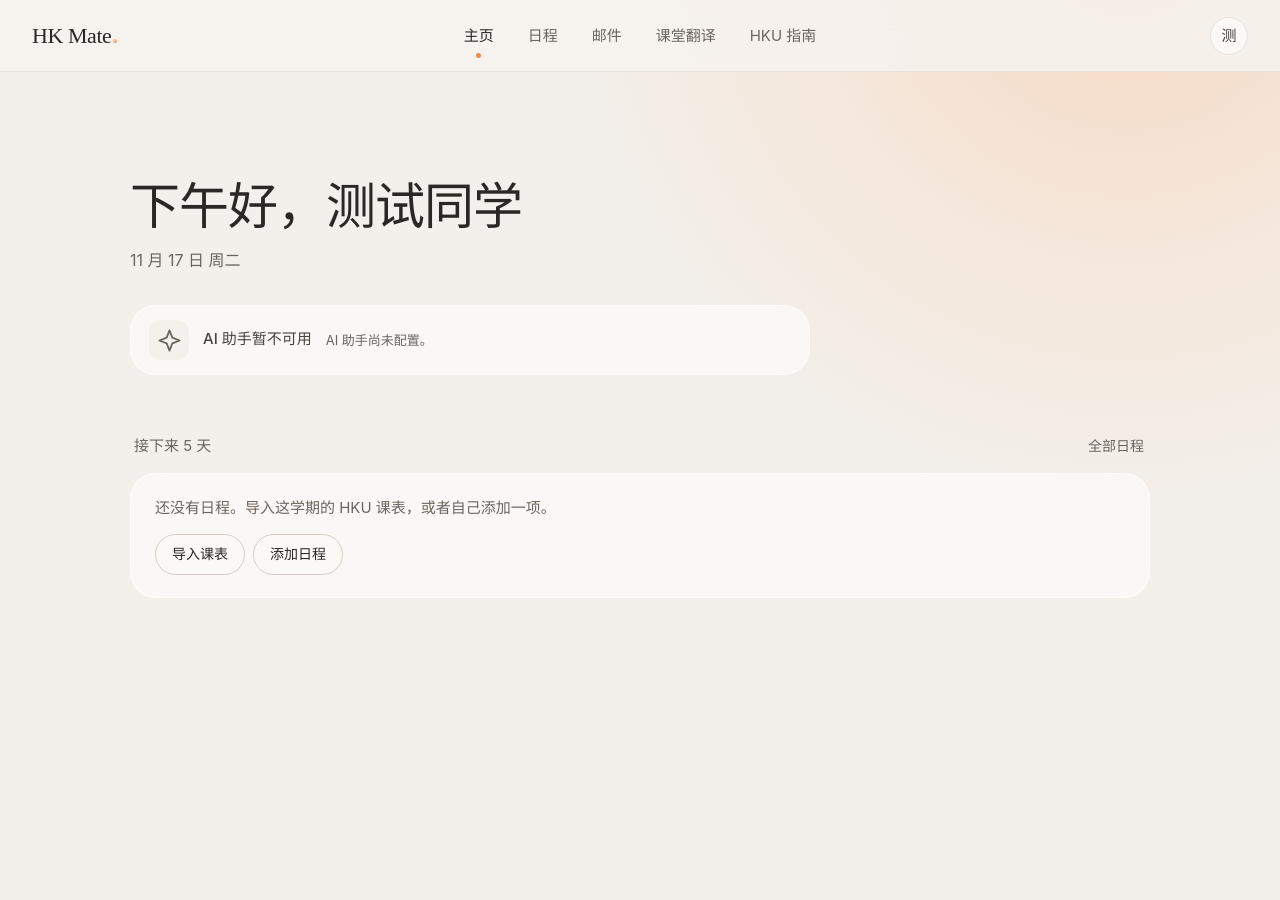
Test case: account pages › lists the lecture pages as tabs
Expected: the heading "下午好，测试同学" is shown, [130, 176, 522, 236]
Click the button "课堂翻译" at (686, 36), box [642, 16, 730, 56]
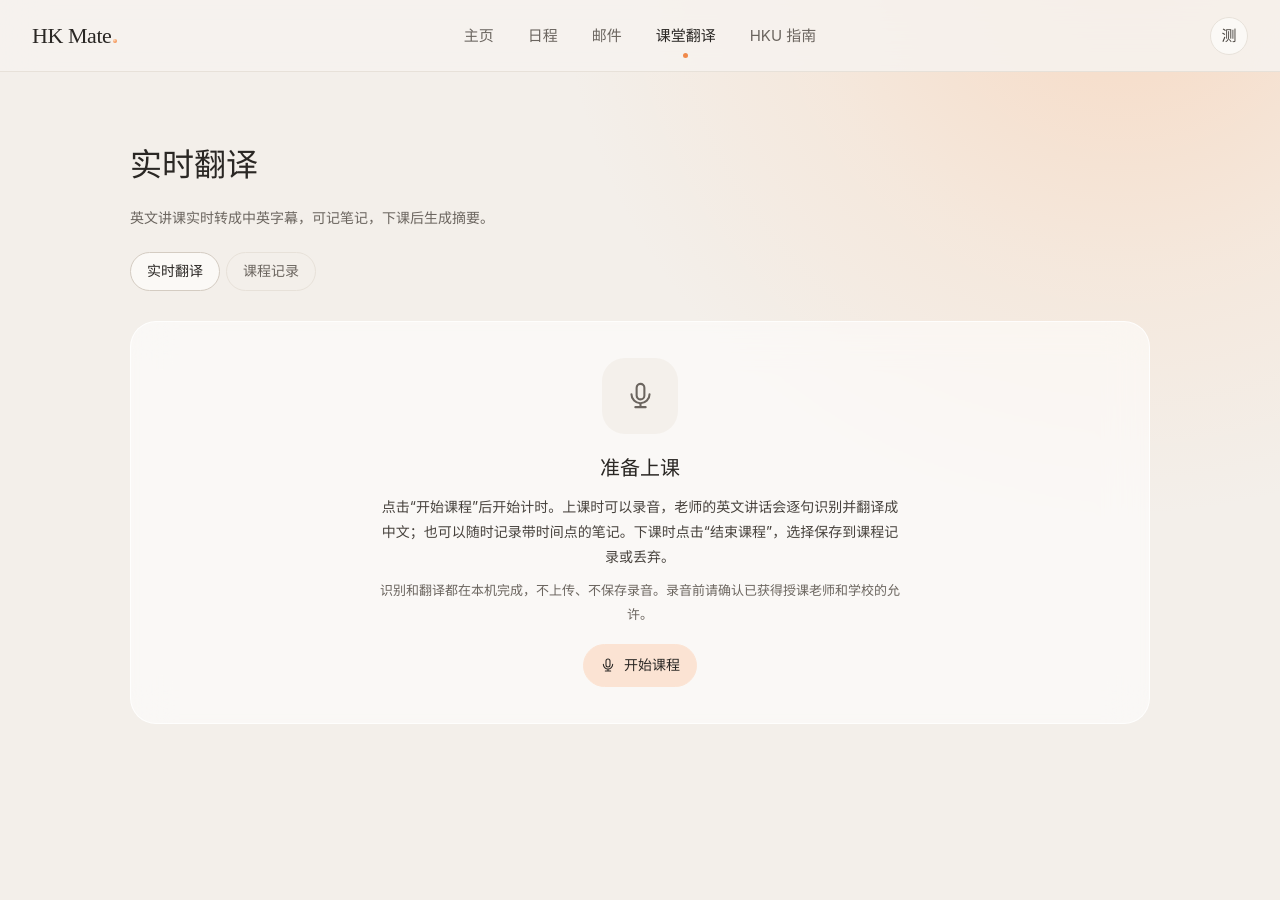
Now the heading "实时翻译" is shown, box [130, 145, 258, 184]
Now the buttons read "实时翻译", "课程记录", in this order
Click the button "课程记录" at (271, 272), box [226, 252, 316, 291]
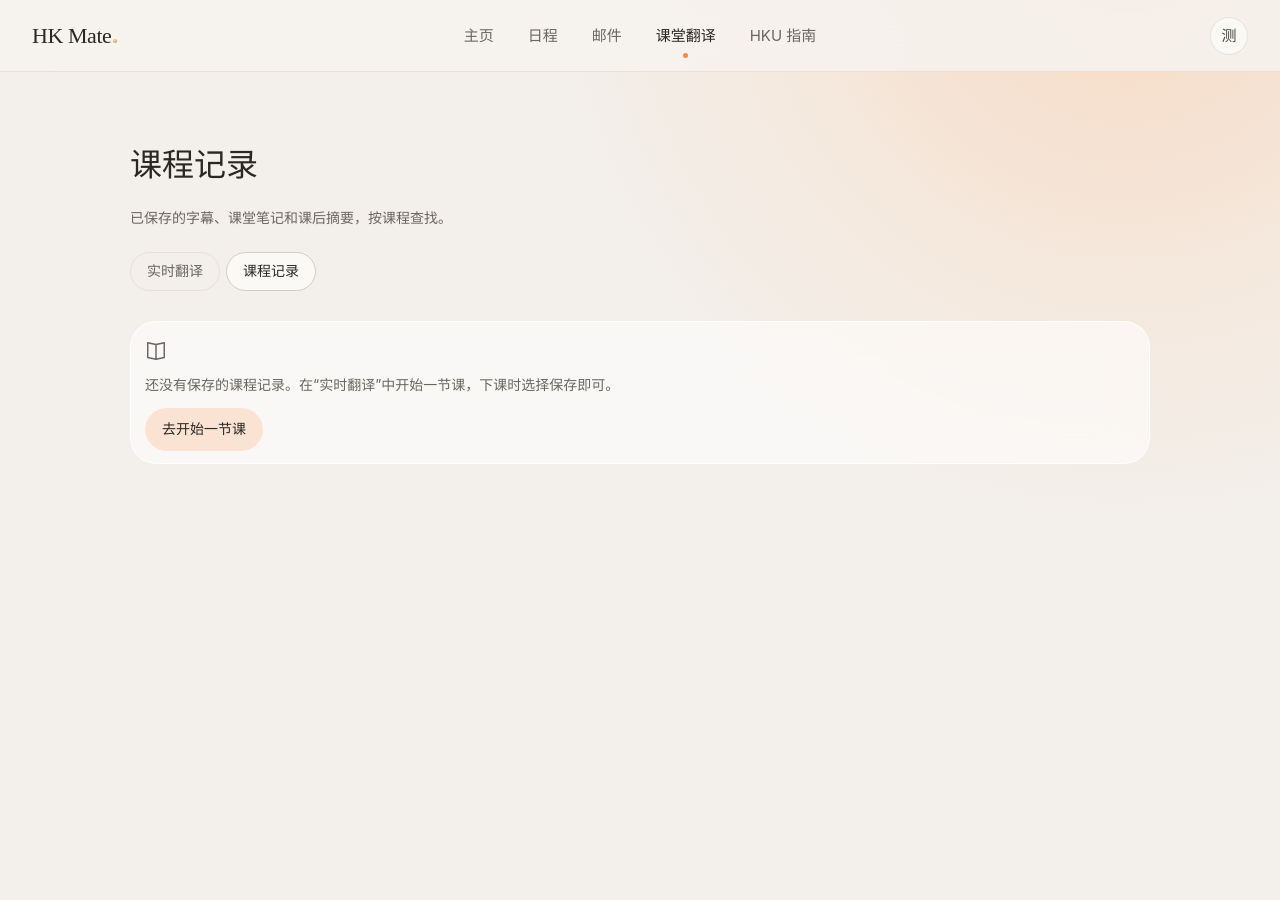
Now the heading "课程记录" is shown, box [130, 145, 258, 184]
Now the text "还没有保存的课程记录。在“实时翻译”中开始一节课，下课时选择保存即可。" is shown, box [145, 374, 619, 396]
Click the button "去开始一节课" at (204, 429), box [145, 408, 263, 451]
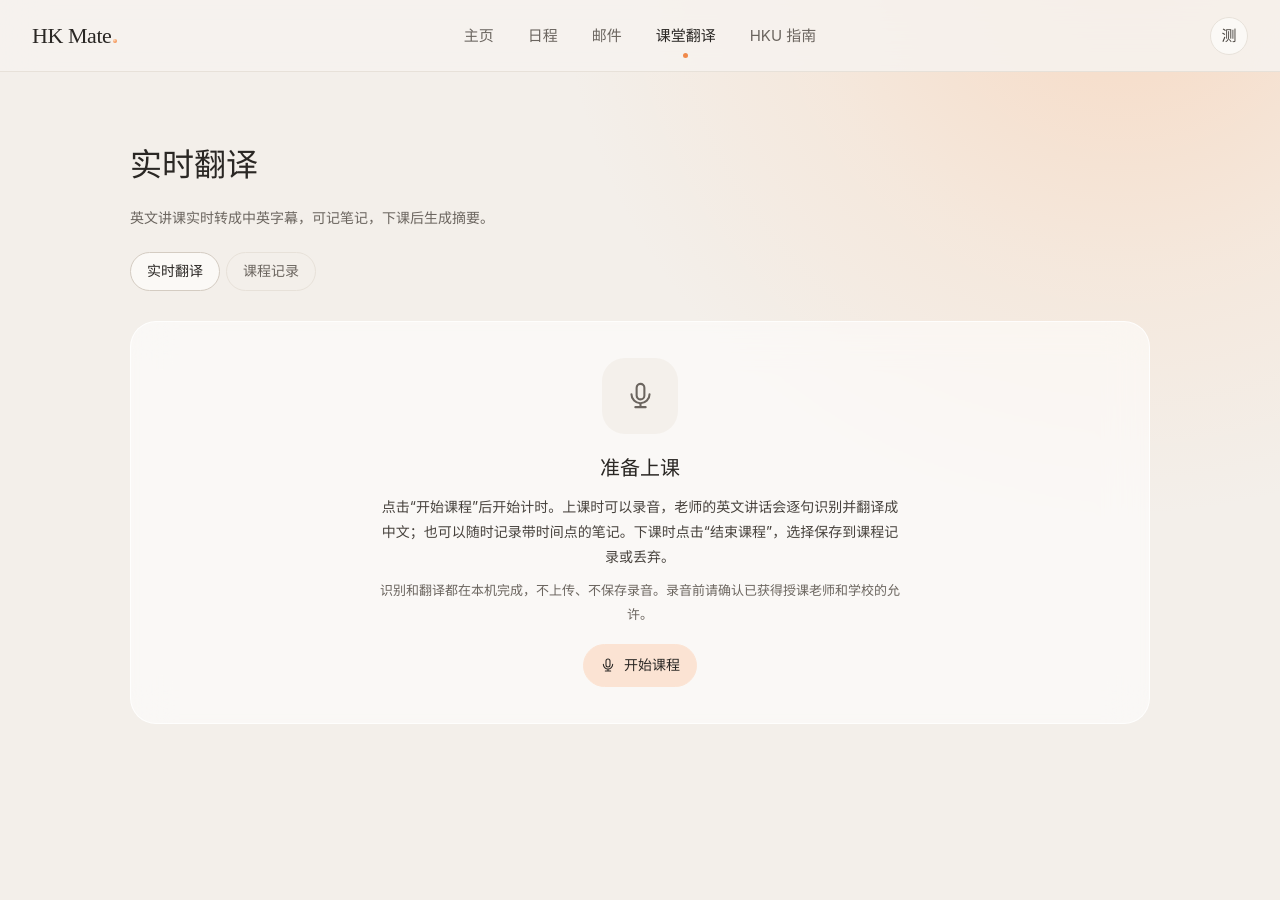
Now the heading "实时翻译" is shown, box [130, 145, 258, 184]
Now the button "开始课程" is shown, box [583, 644, 697, 686]
